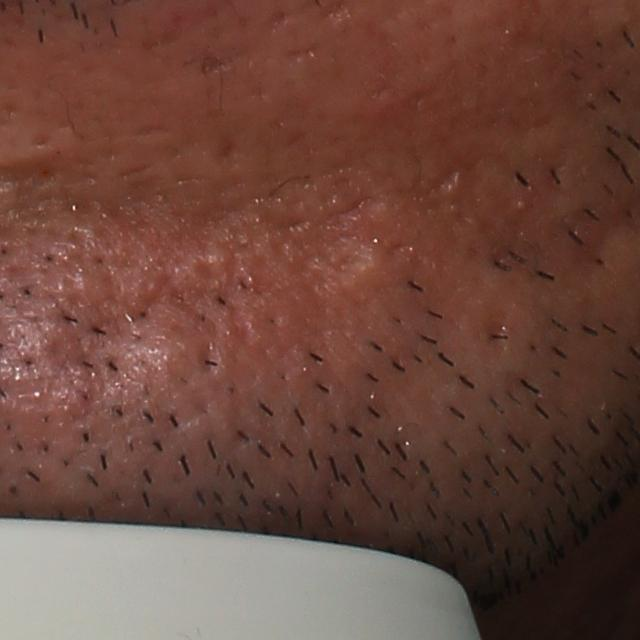atrophic_scar: (44, 261, 226, 398), (260, 199, 375, 300), (392, 168, 463, 221)
hypertrophic_scar: (336, 246, 404, 297)
